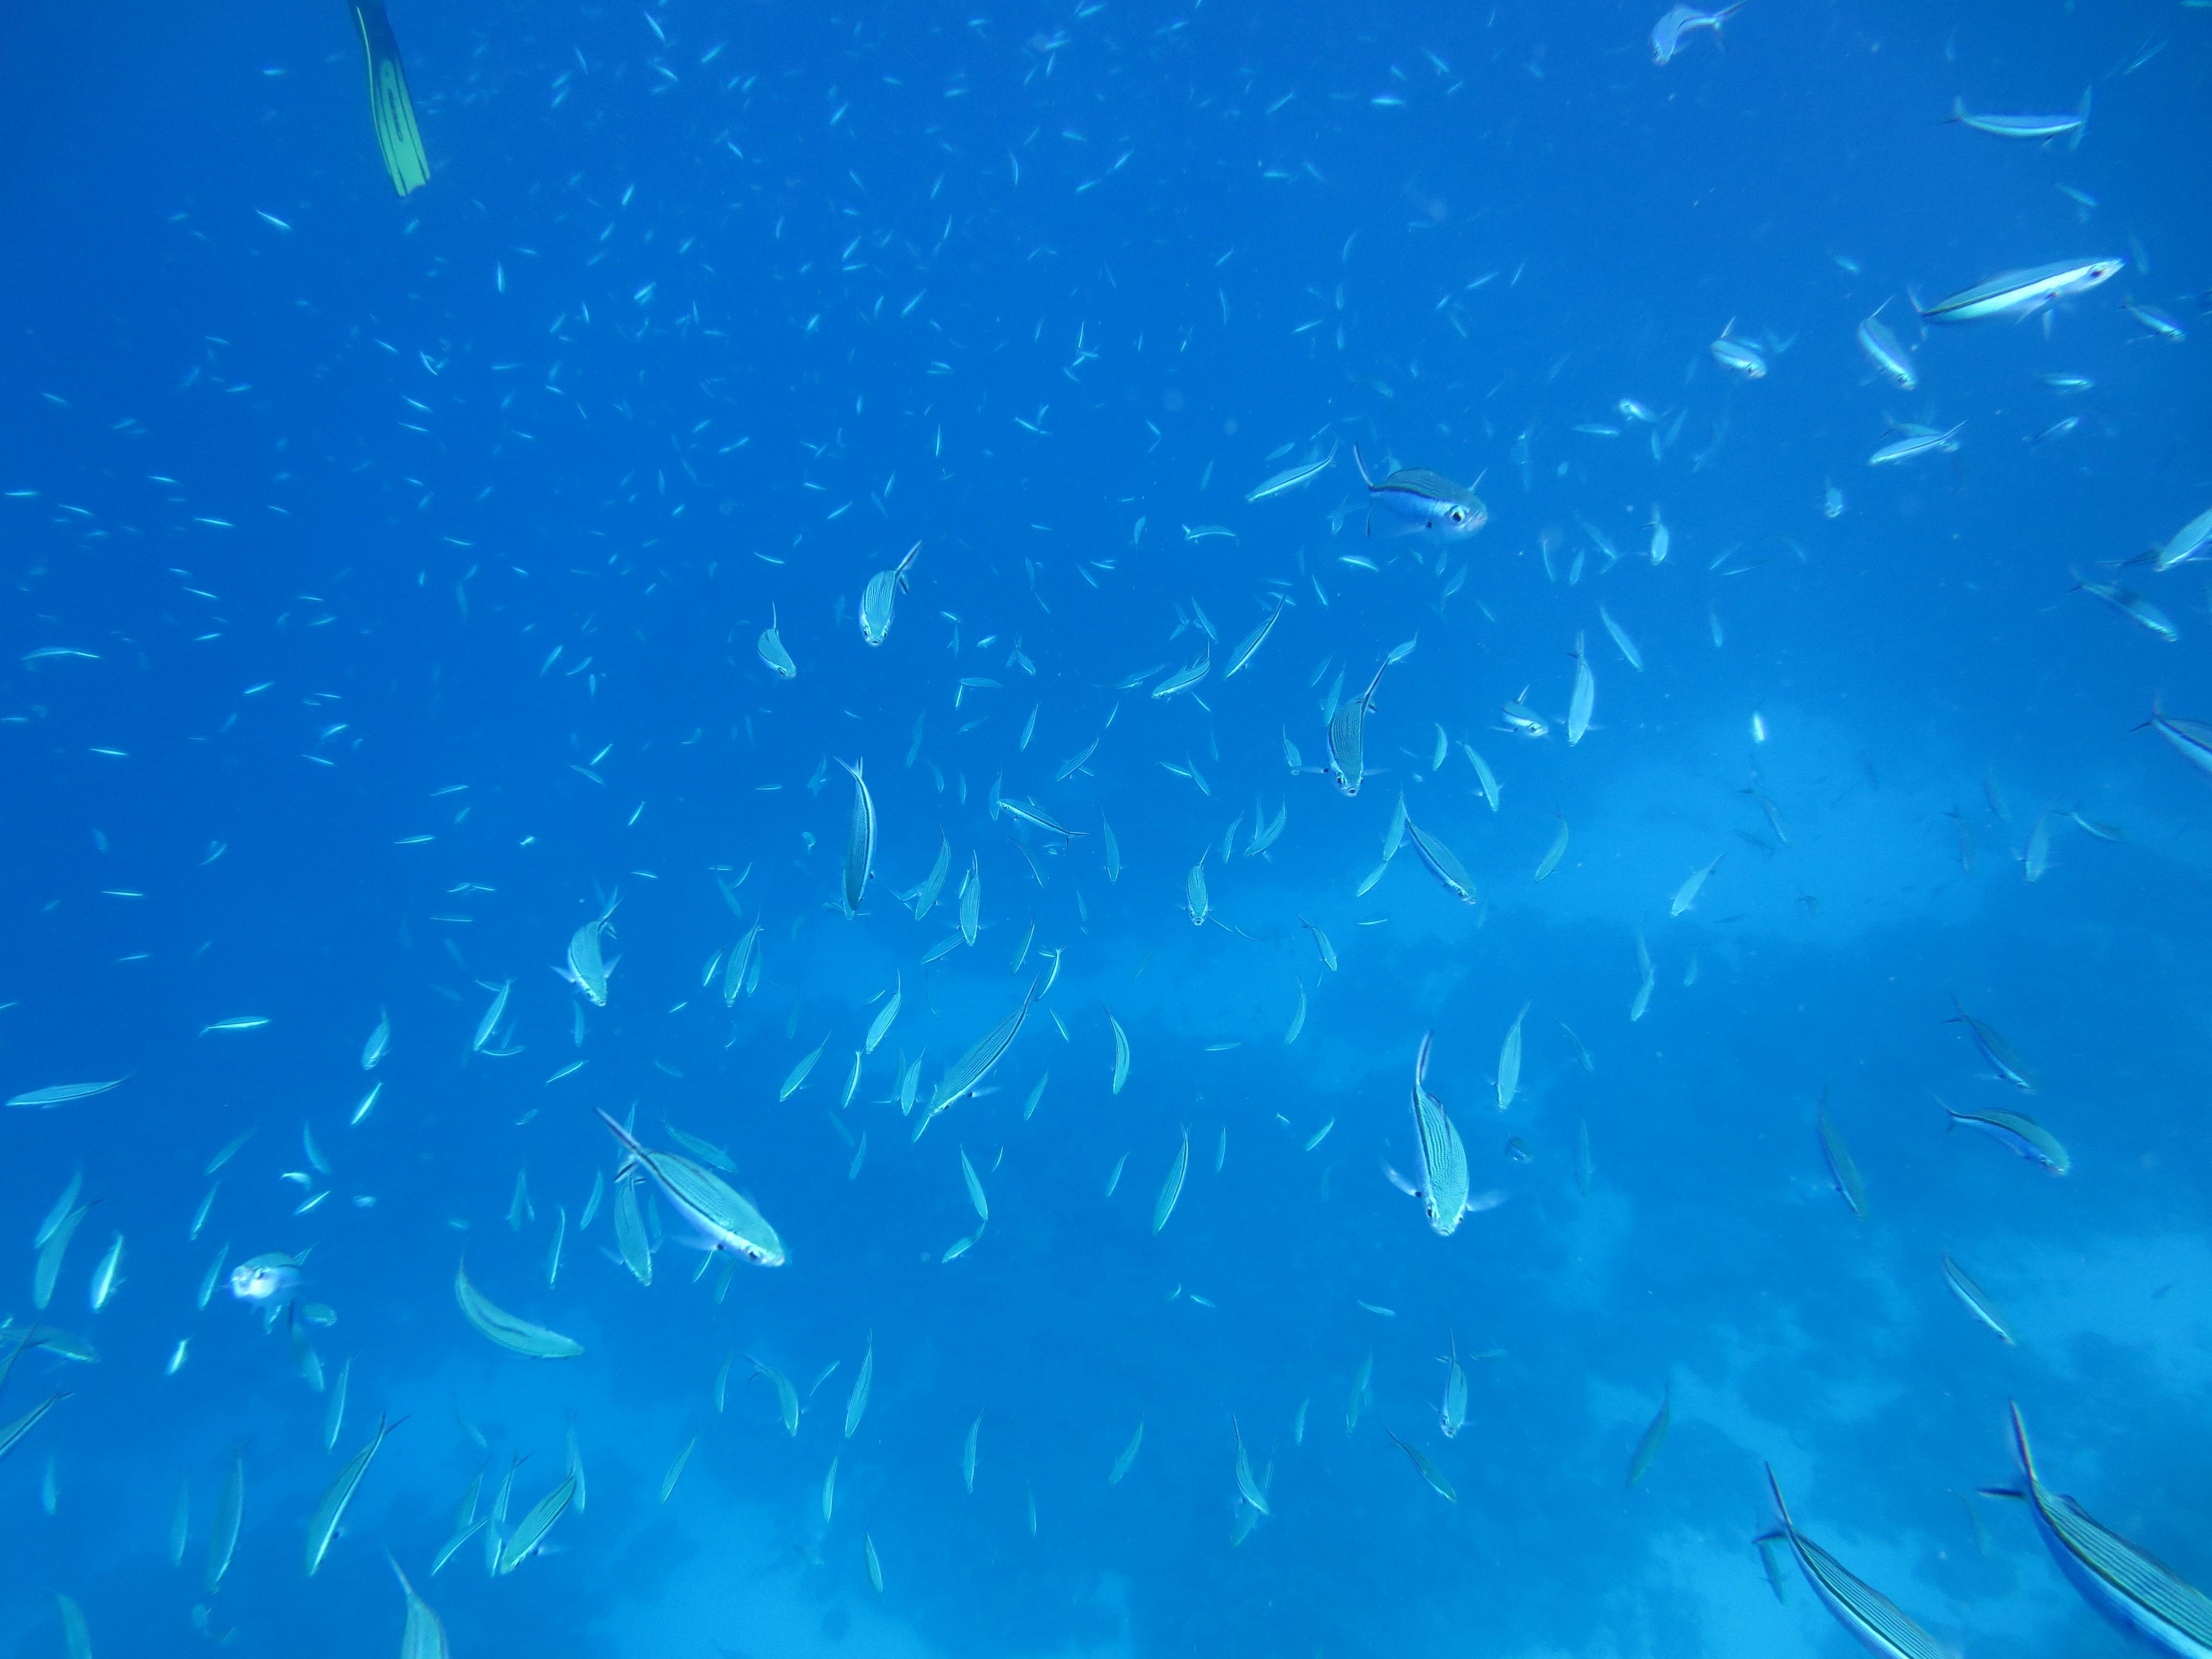Pterocaesio tile: (569, 1101, 832, 1309), (1327, 1031, 1538, 1283), (416, 1240, 625, 1427), (1910, 237, 2171, 356), (1320, 437, 1519, 588), (793, 751, 932, 950), (1266, 661, 1421, 837), (690, 582, 845, 722), (814, 531, 958, 680), (1347, 798, 1515, 911), (519, 899, 668, 1016), (1398, 1329, 1514, 1467), (1134, 848, 1252, 950), (1144, 1124, 1212, 1256)
